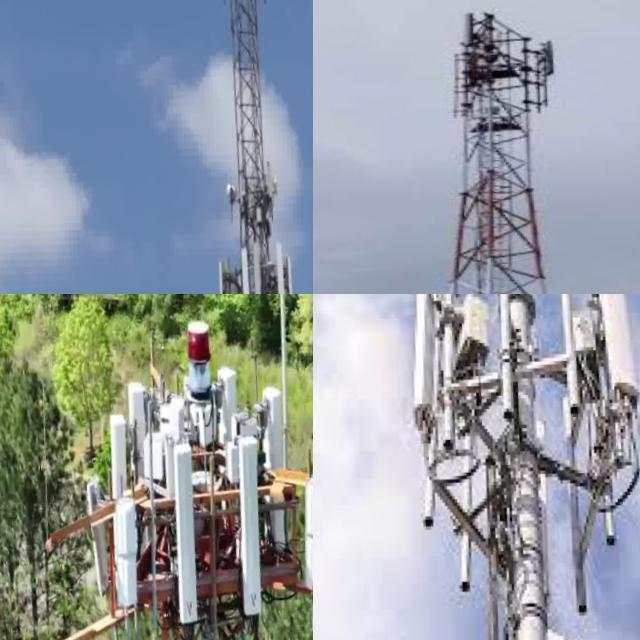GSM Antenna: (224, 417, 291, 630), (158, 423, 222, 626), (395, 294, 456, 425), (104, 486, 156, 613), (580, 294, 640, 395), (78, 470, 125, 587), (126, 370, 158, 475), (106, 401, 138, 494), (293, 454, 313, 586), (251, 230, 278, 294), (275, 234, 302, 294), (238, 240, 264, 294), (539, 28, 564, 76), (218, 253, 237, 294)
Microwave Antenna: (225, 170, 244, 202), (274, 165, 291, 195), (467, 27, 489, 39), (483, 48, 504, 60), (484, 35, 501, 47), (464, 94, 478, 106)
